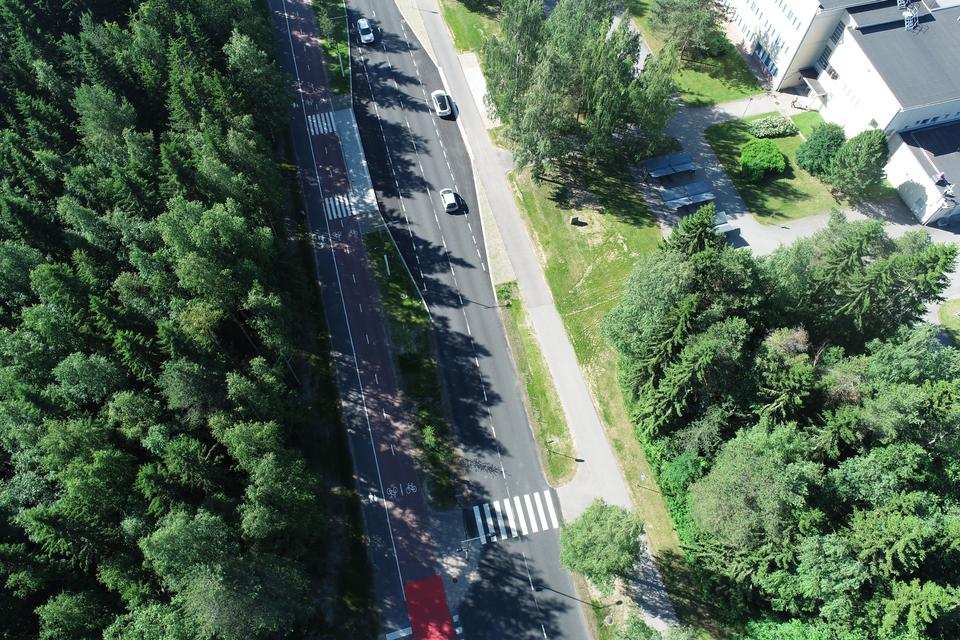intersection: (340, 451, 677, 585)
